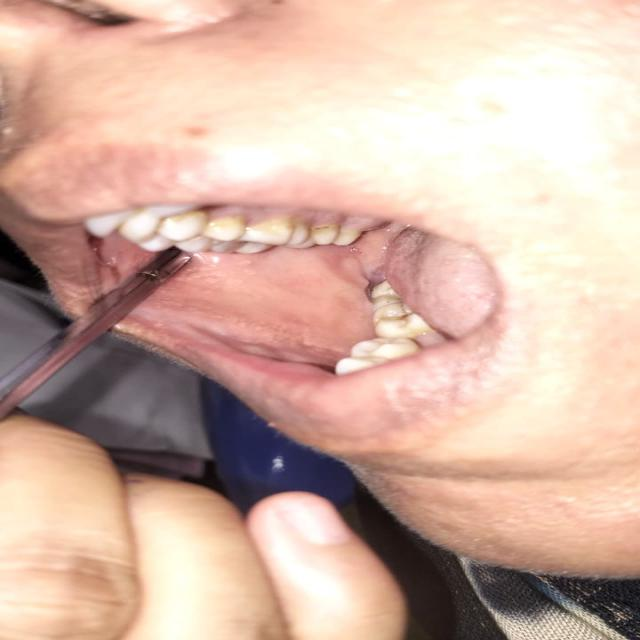processing_area: (129, 225, 502, 370)
